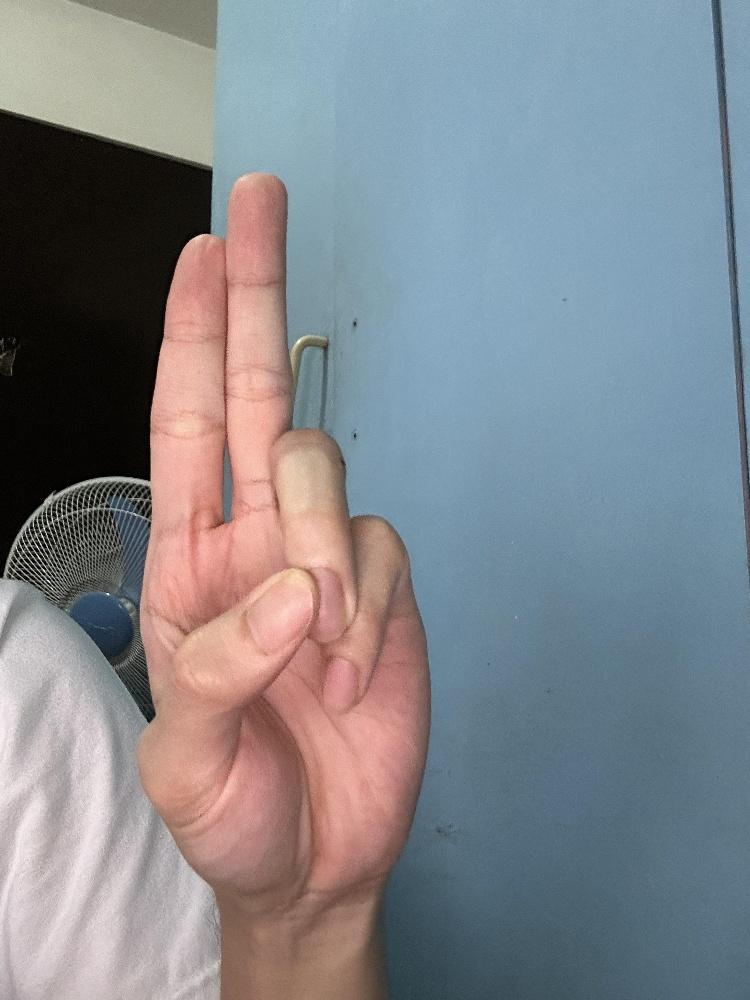u: (132, 164, 434, 912)
